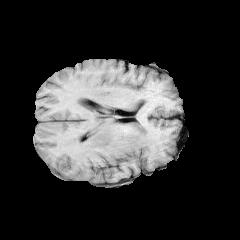glioma: (59, 117, 152, 163)
